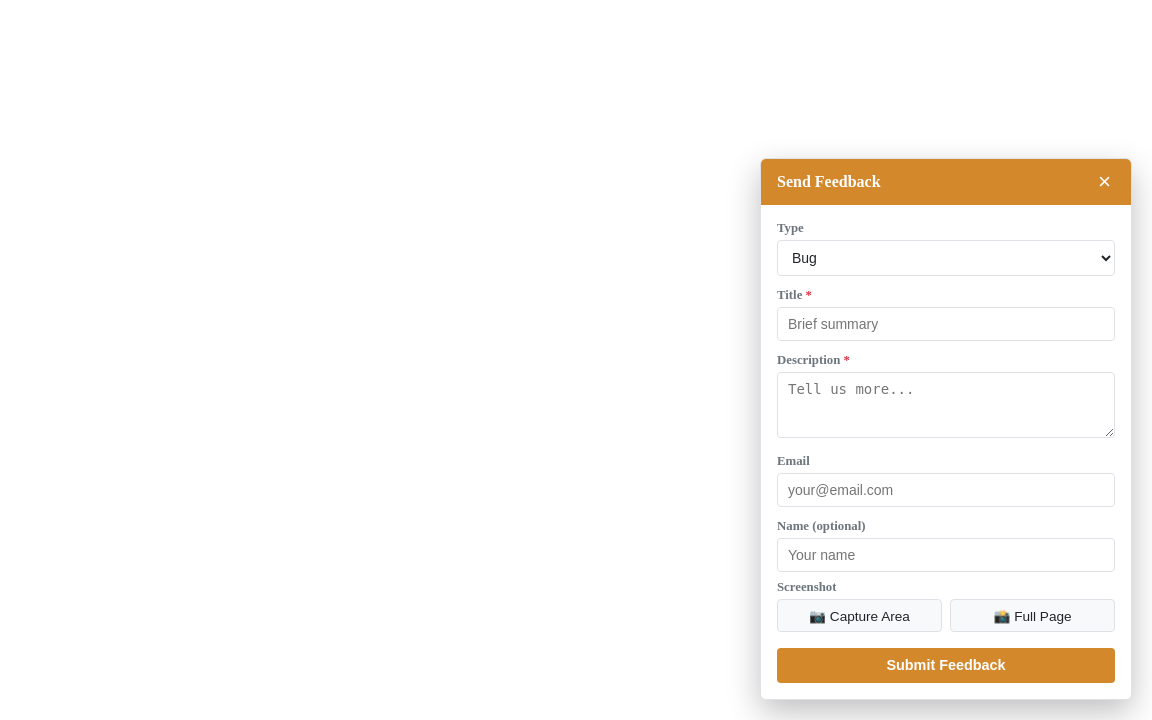
Scenario: what the widget reports about a capture › names the cause instead of the old catch-all string
The image size is (1152, 720).
Click the button "📷 Capture Area": (860, 616) [777, 599, 942, 632]
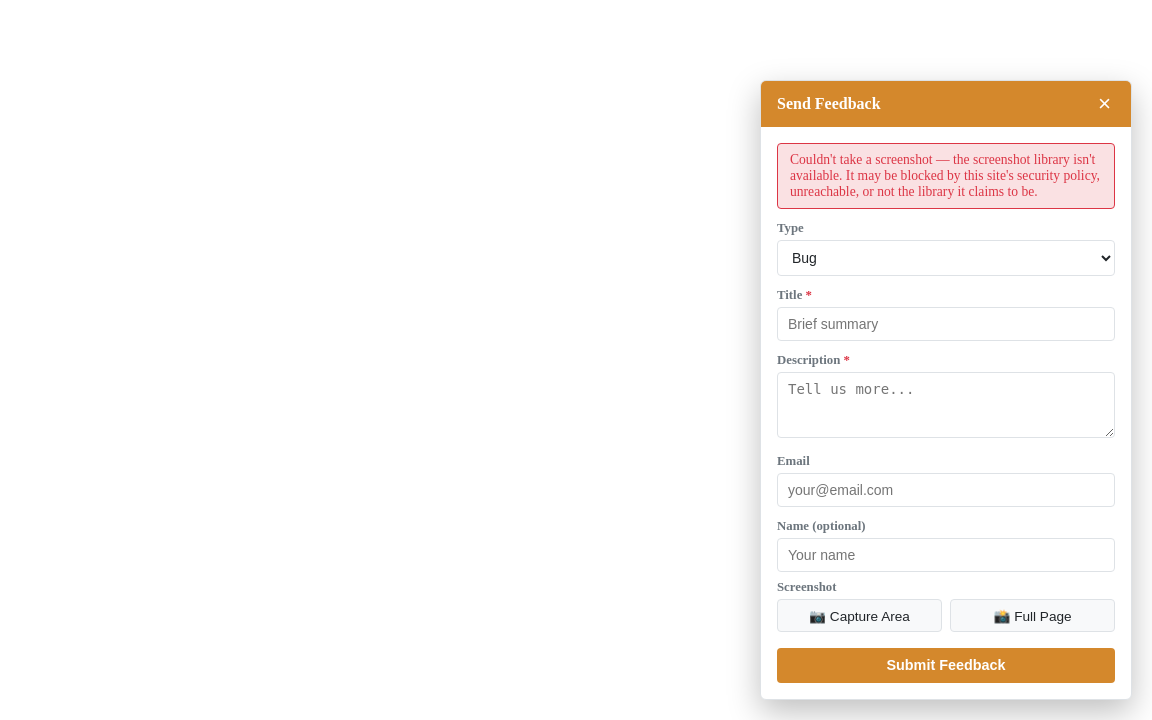
Now the text "screenshot library isn't available" is shown, box [790, 152, 1100, 199]
